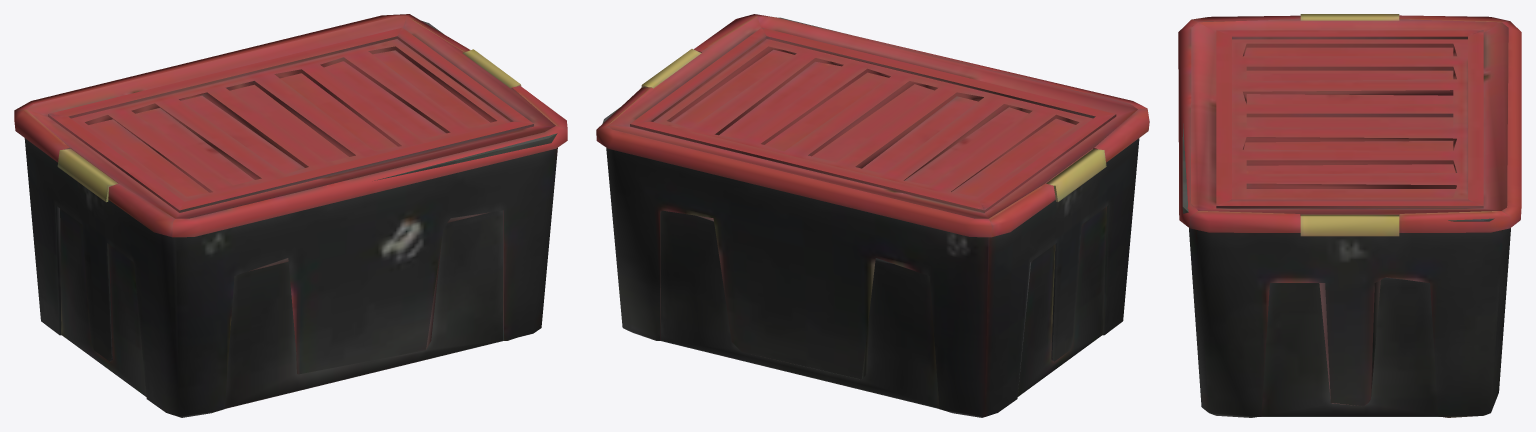
The model's file is plastic_container.glb.
3 renders of one model, left to right at view 1: azimuth 30°, elevation 25°; view 2: azimuth 150°, elevation 25°; view 3: azimuth 270°, elevation 25°, orthographic.
Visible parts, largest first — view 1: plastic_container; view 2: plastic_container; view 3: plastic_container.
Boxes of the visible parts, x1,y1,x2,y2 form: plastic_container: (14, 14, 567, 417); plastic_container: (596, 14, 1149, 417); plastic_container: (1178, 14, 1521, 417).
Size of the model in its own units: 0.893 by 0.4289 by 0.6252.
1 material, 1 textured.
